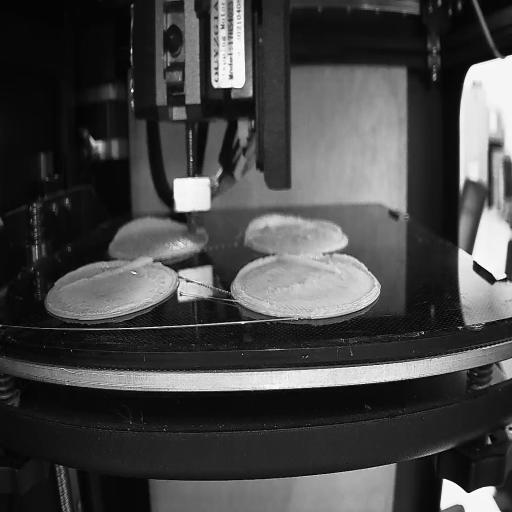over_extrusion: (62, 255, 155, 292), (235, 252, 278, 308), (281, 252, 370, 274), (243, 209, 301, 241), (114, 219, 184, 243), (310, 218, 344, 235)
